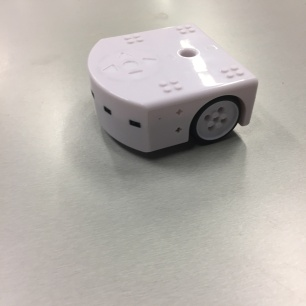thymio: (73, 22, 265, 163)
